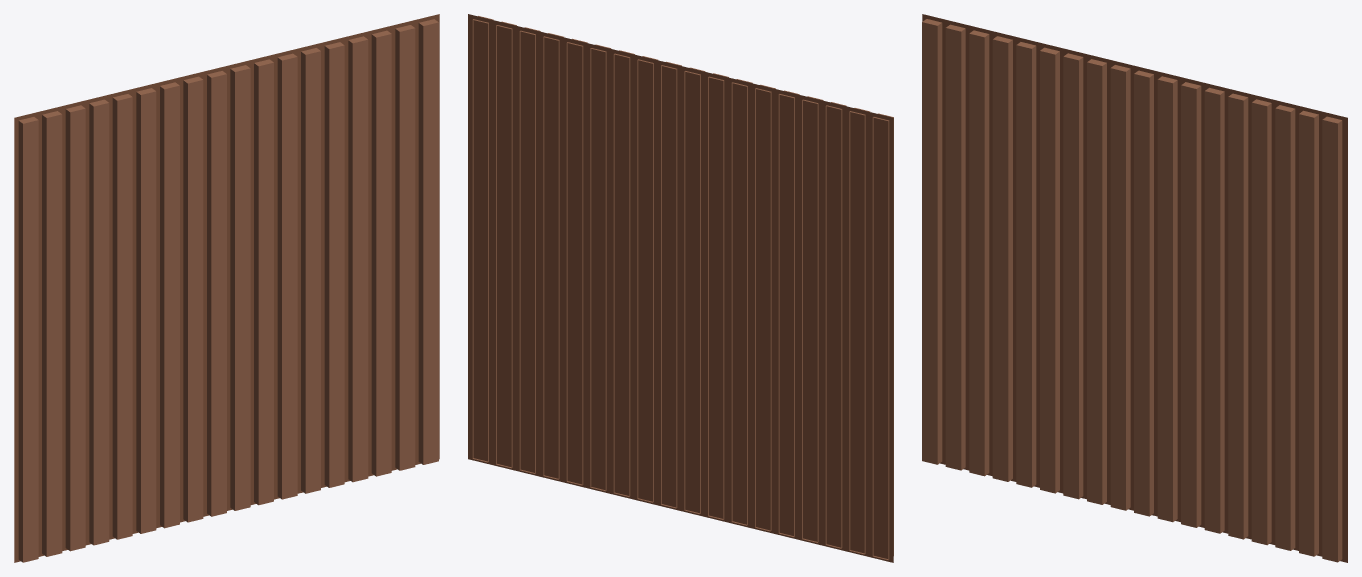
Rendered from M_WoodenWall_0.fbx.
3 views of the same model, side by side, from view 1: azimuth 30°, elevation 25°; view 2: azimuth 150°, elevation 25°; view 3: azimuth 330°, elevation 25° (orthographic).
Visible parts, largest first — view 1: M_WoodenWall_0; view 2: M_WoodenWall_0; view 3: M_WoodenWall_0.
Part boxes in pixels (<box>): M_WoodenWall_0: <box>14,14,439,562</box>; M_WoodenWall_0: <box>468,14,893,562</box>; M_WoodenWall_0: <box>922,14,1347,562</box>.
Bounding box in the file's own units: 1600 × 1600 × 36.04.
